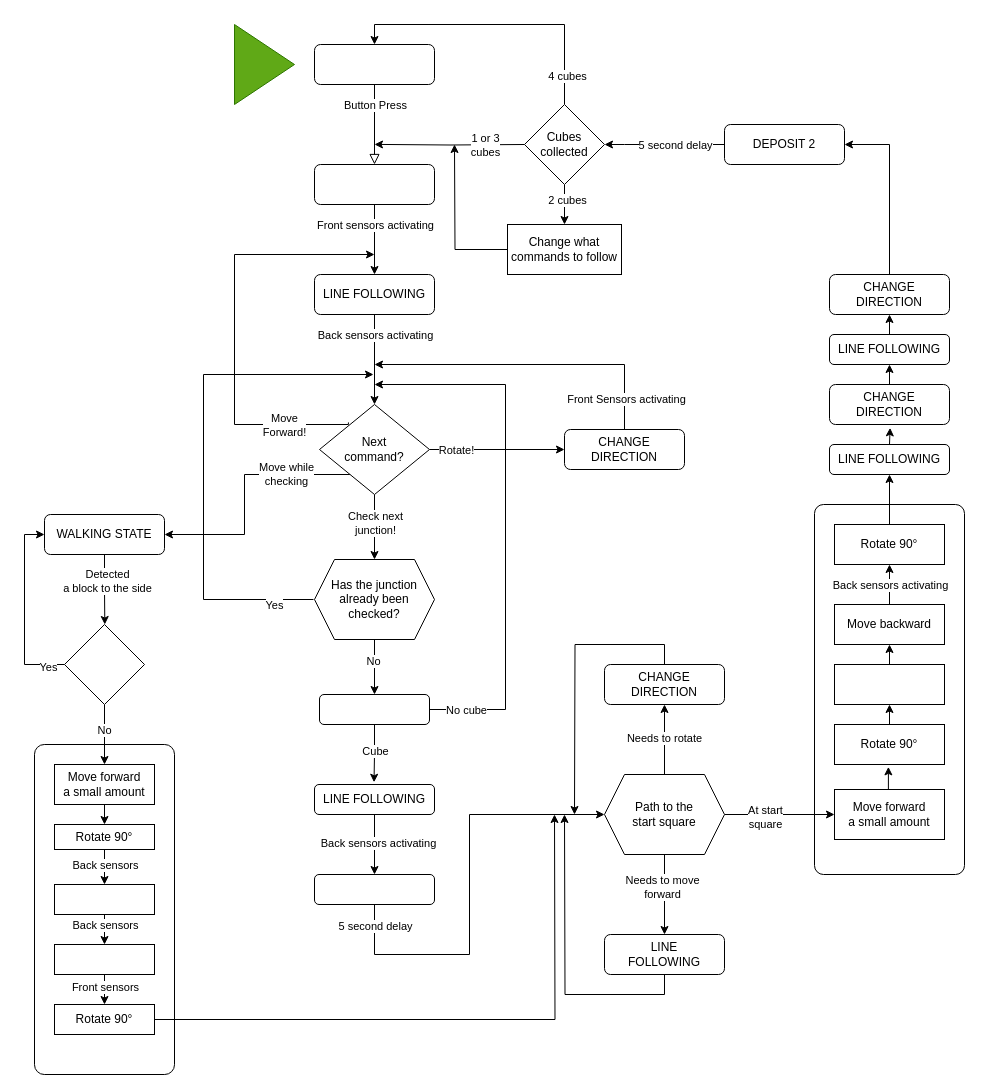
This 982x1092 diagram has some shape labels left out. Each missing label, with the box of its shape:
CATCH BLOCK STATE: (34, 744, 174, 1074)
CHECK: (318, 694, 430, 724)
DEPOSIT STATE: (814, 504, 964, 874)
Detected noise?: (64, 624, 144, 704)
INITIAL STATE: (314, 164, 434, 204)
Move forward: (54, 884, 154, 914)
Move forward a fixed amount: (834, 664, 944, 704)
PICKUP DELAY: (314, 874, 434, 904)
Rotate 180°: (54, 944, 154, 974)
START: (234, 24, 294, 104)
STOPPED STATE: (314, 44, 434, 84)
